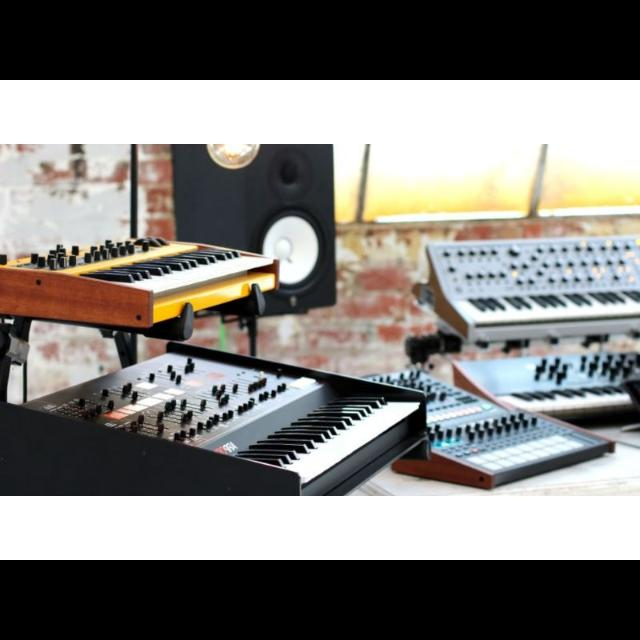Electronic-Keyboard: (11, 347, 423, 485), (1, 224, 290, 328), (422, 226, 634, 326), (455, 349, 633, 408)
